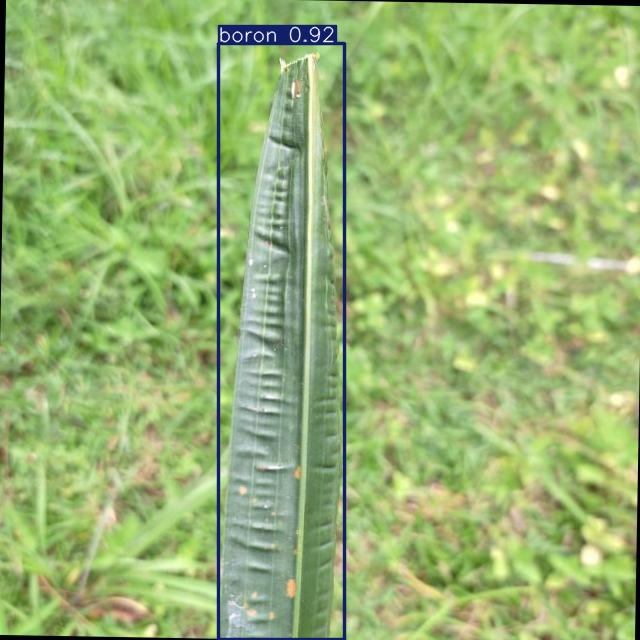nitrogen: (219, 44, 345, 639)
